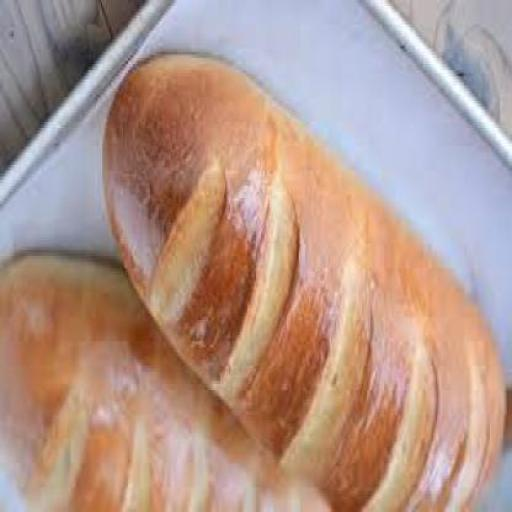biodegradable: (100, 58, 506, 511), (0, 256, 343, 511)
